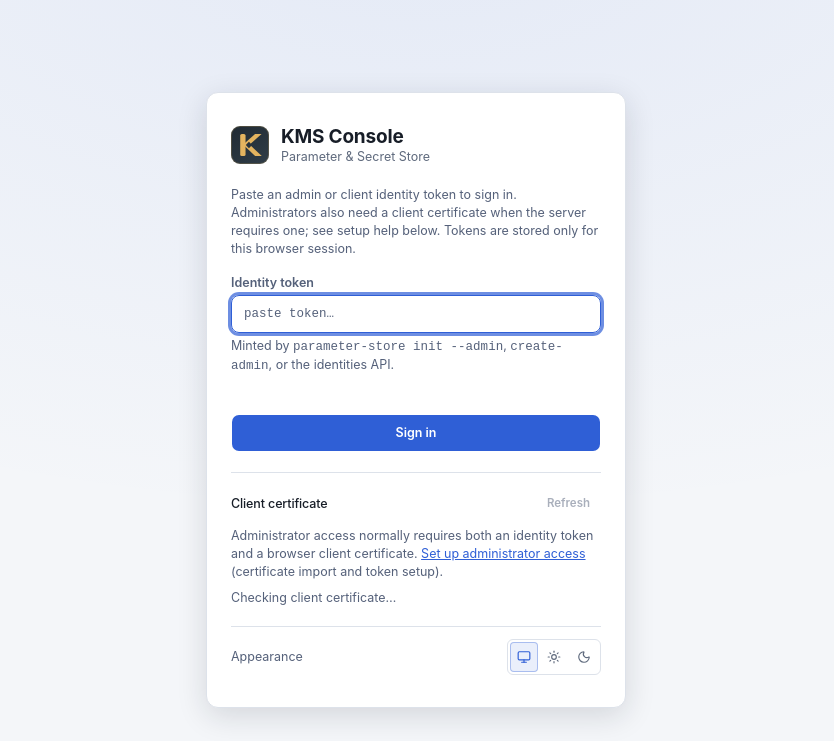
LoginPage › reports an empty token inline rather than as a toast
This screenshot has width=834, height=741.
Click the button named "Sign in" below ", or the identities API.".
click(416, 433)  # box [231,414,601,452]
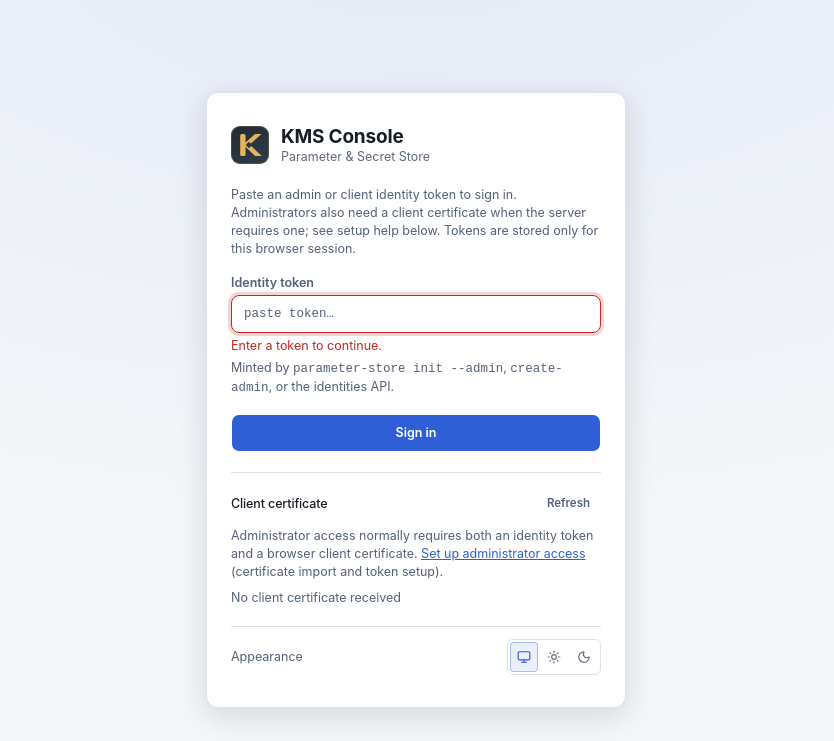
Expected: the message "Enter a token to continue." is shown, [231,338,382,353]
